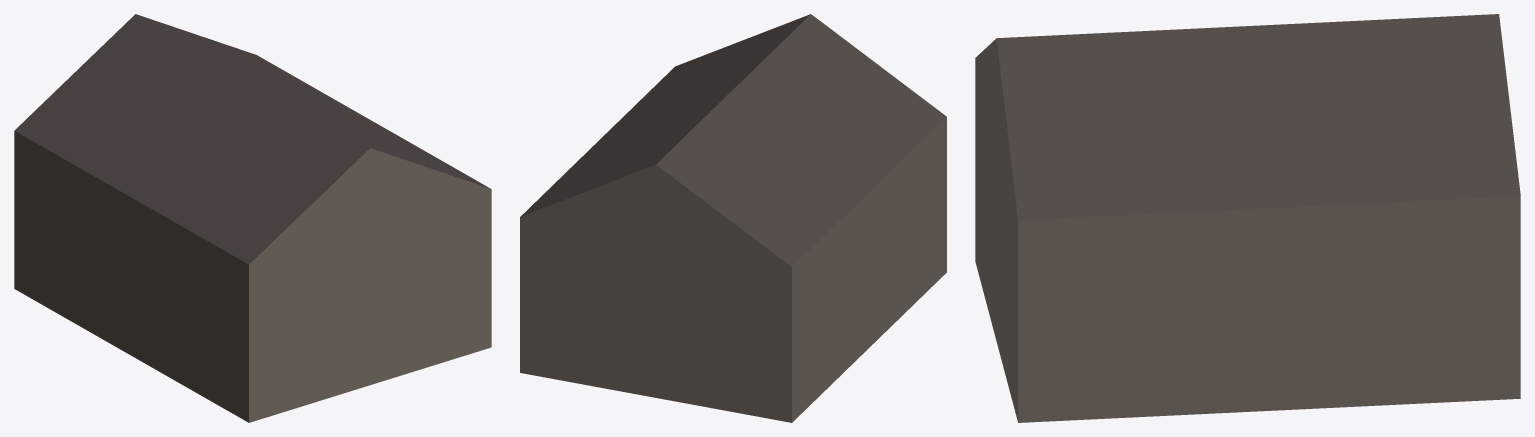
3 renders of one model, left to right at view 1: azimuth 30°, elevation 25°; view 2: azimuth 150°, elevation 25°; view 3: azimuth 270°, elevation 25°, orthographic. The views are drawn at different scales.
Visible parts, largest first — view 1: HP-w859424199; view 2: HP-w859424199; view 3: HP-w859424199.
Boxes of the visible parts, <box> form: HP-w859424199: <box>14,14,491,422</box>; HP-w859424199: <box>520,14,946,422</box>; HP-w859424199: <box>975,14,1520,422</box>.
Bounding box in the file's own units: 11.82 × 8.99 × 14.64.
